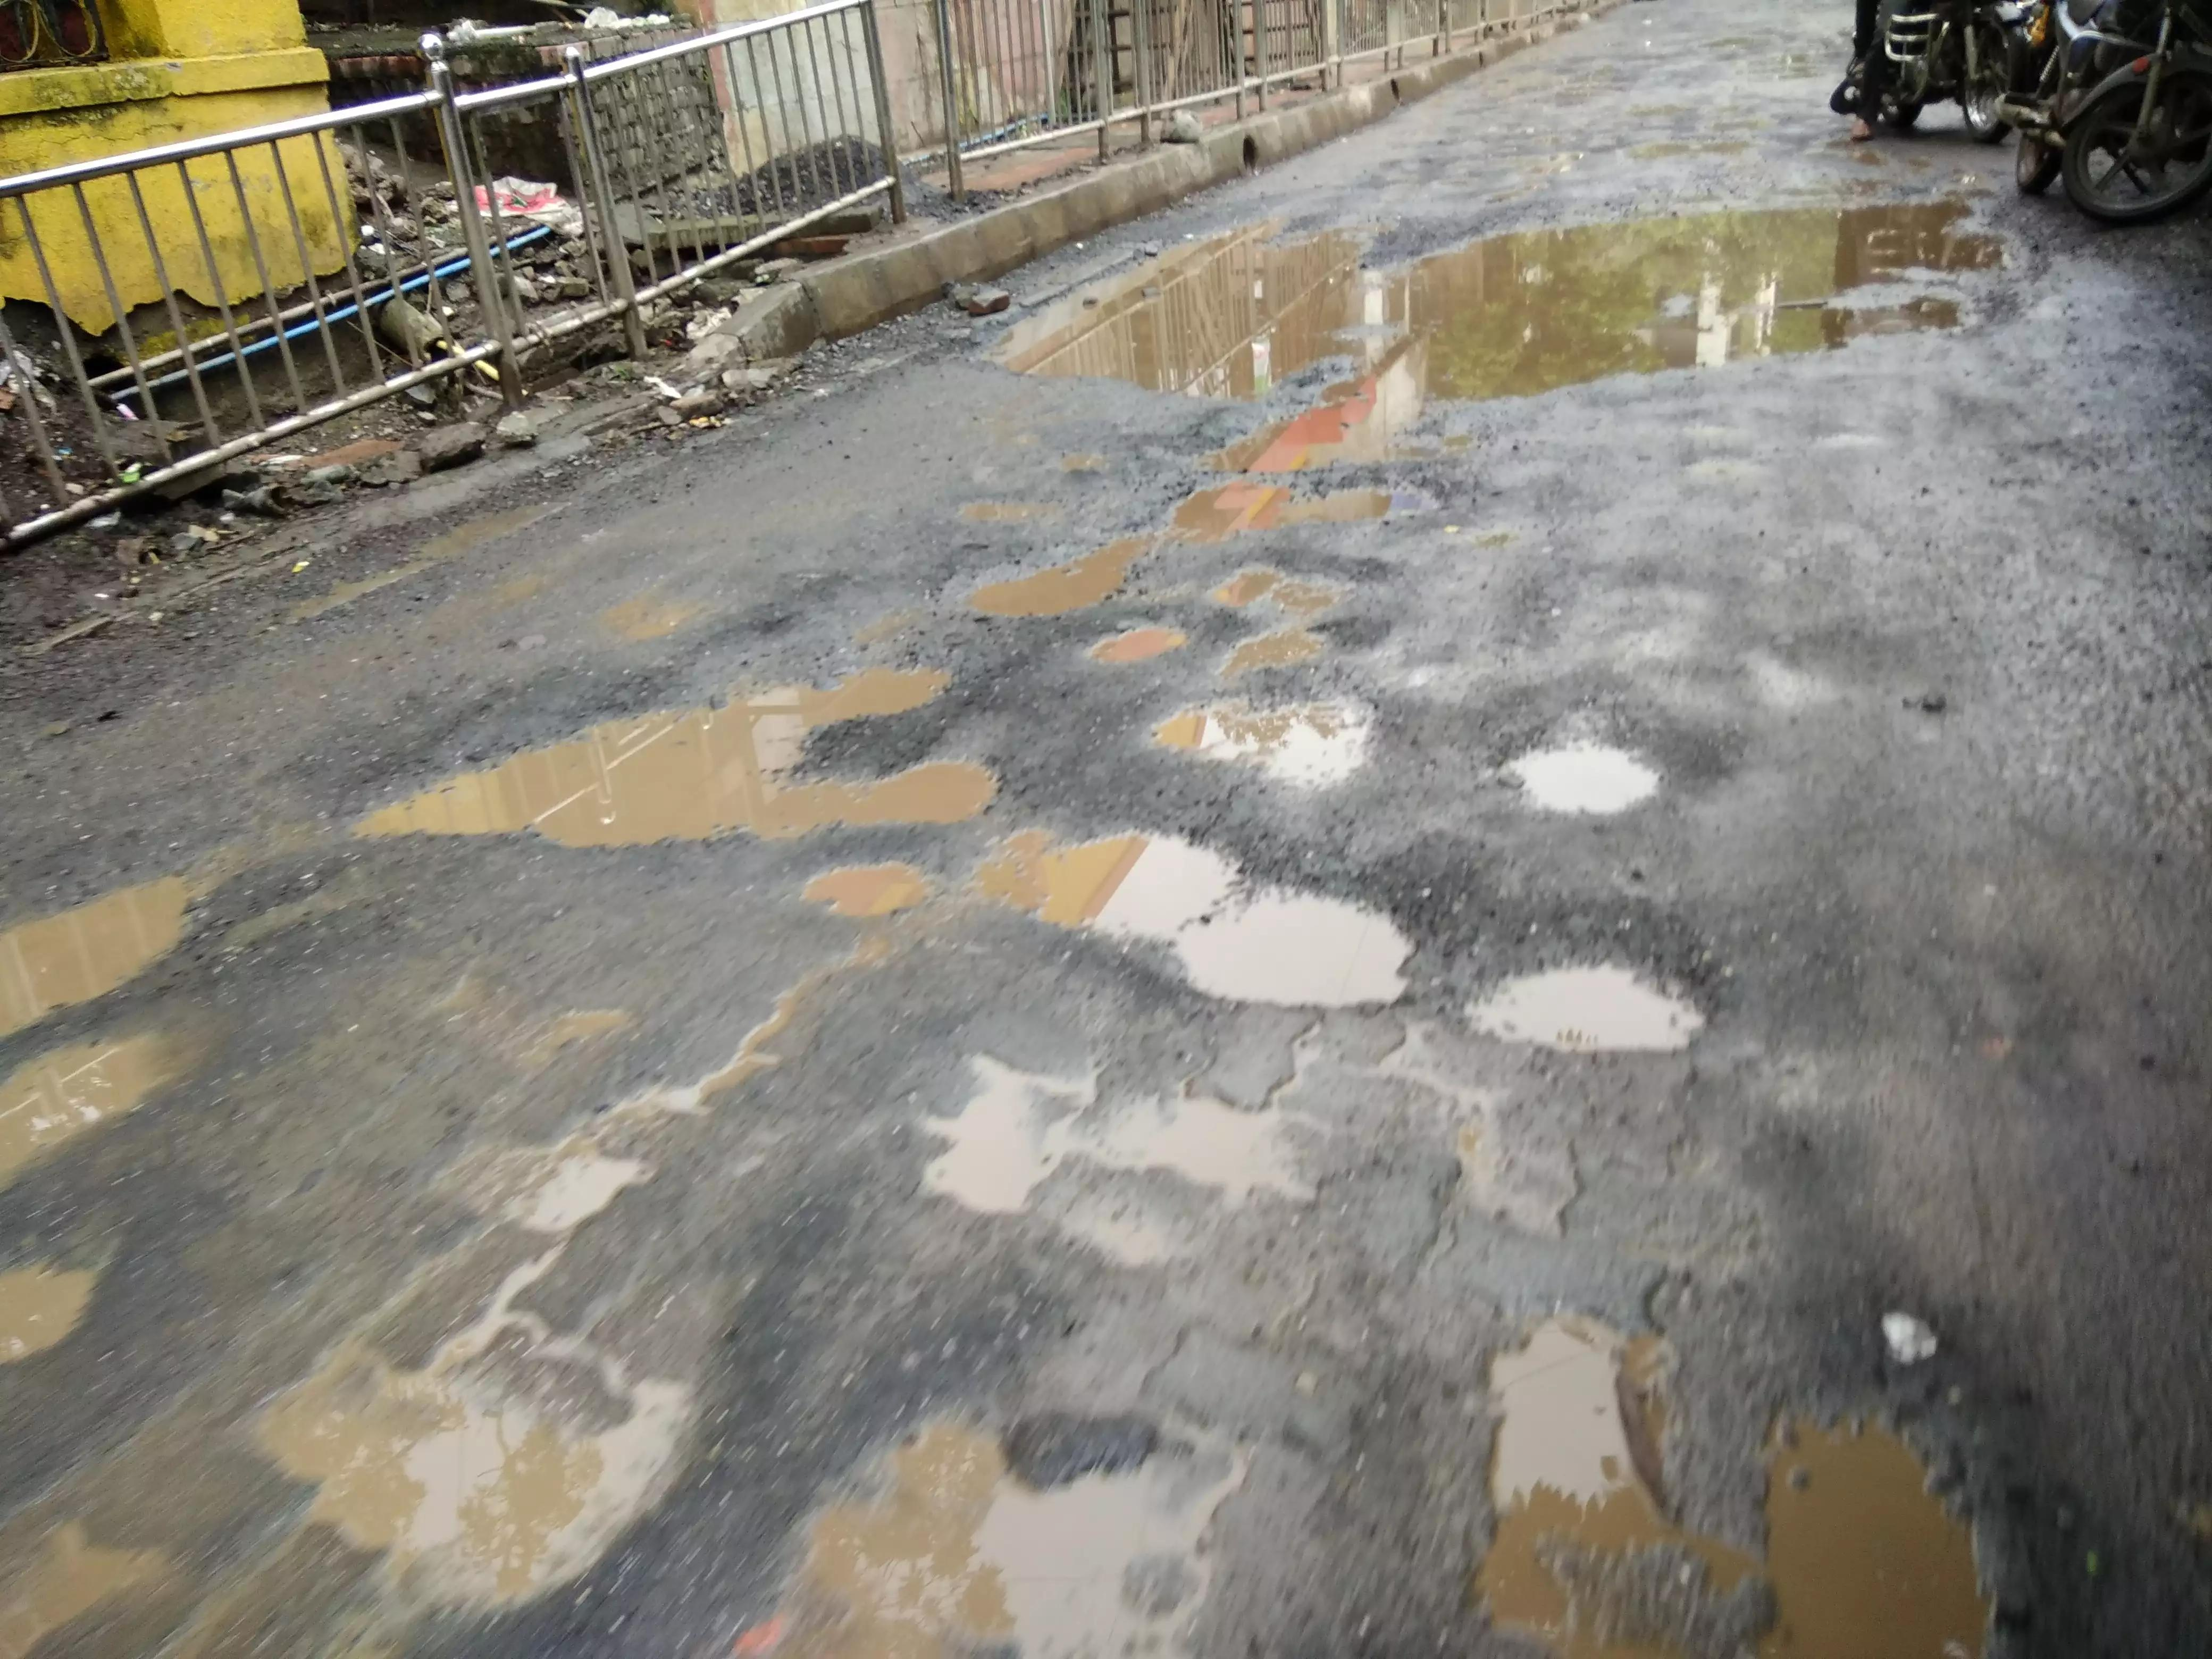Pothole: (33, 502, 2000, 1659), (881, 117, 2212, 725), (641, 1309, 1306, 1657), (838, 1011, 1428, 1253), (1442, 904, 1803, 1101), (1451, 666, 1696, 859)
